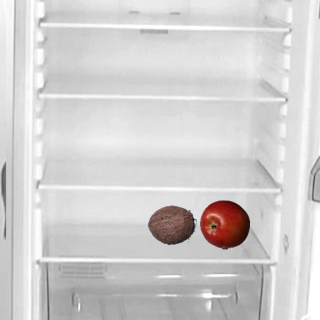Apple Braeburn: (199, 199, 249, 249)
Cocos: (146, 199, 196, 249)
